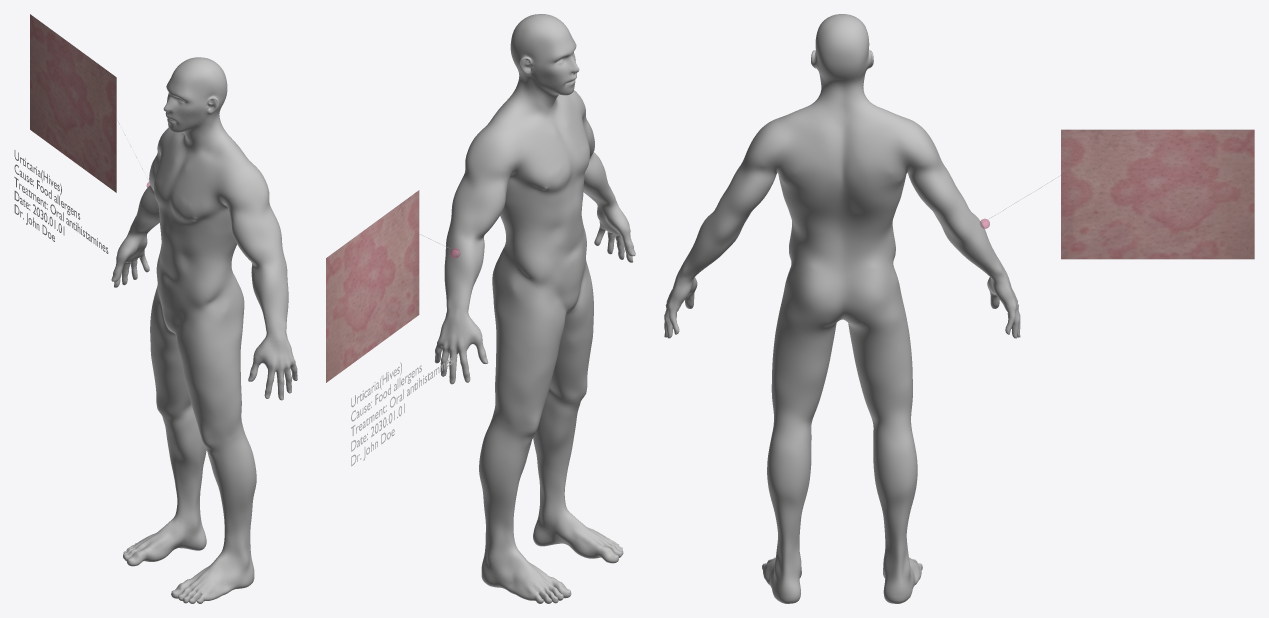
Rendered from ARbody.gltf.
3 renders of one model, left to right at view 1: azimuth 30°, elevation 25°; view 2: azimuth 150°, elevation 25°; view 3: azimuth 270°, elevation 25°, orthographic. The views are drawn at different scales.
Visible parts, largest first — view 1: FinalBaseMesh.003, Plane, Text; view 2: FinalBaseMesh.003, Plane, Text; view 3: FinalBaseMesh.003, Plane.
Boxes of the visible parts, left/top/right/bottom form: FinalBaseMesh.003: left=111, top=57, right=297, bottom=603; Plane: left=30, top=14, right=116, bottom=192; Text: left=14, top=150, right=108, bottom=253; FinalBaseMesh.003: left=434, top=14, right=635, bottom=603; Plane: left=326, top=190, right=419, bottom=382; Text: left=351, top=357, right=452, bottom=466; FinalBaseMesh.003: left=664, top=14, right=1020, bottom=603; Plane: left=1061, top=129, right=1254, bottom=259.
Bounding box in the file's own units: 8.79 × 48.37 × 45.17.
Materials: 3 (1 with a texture image).
